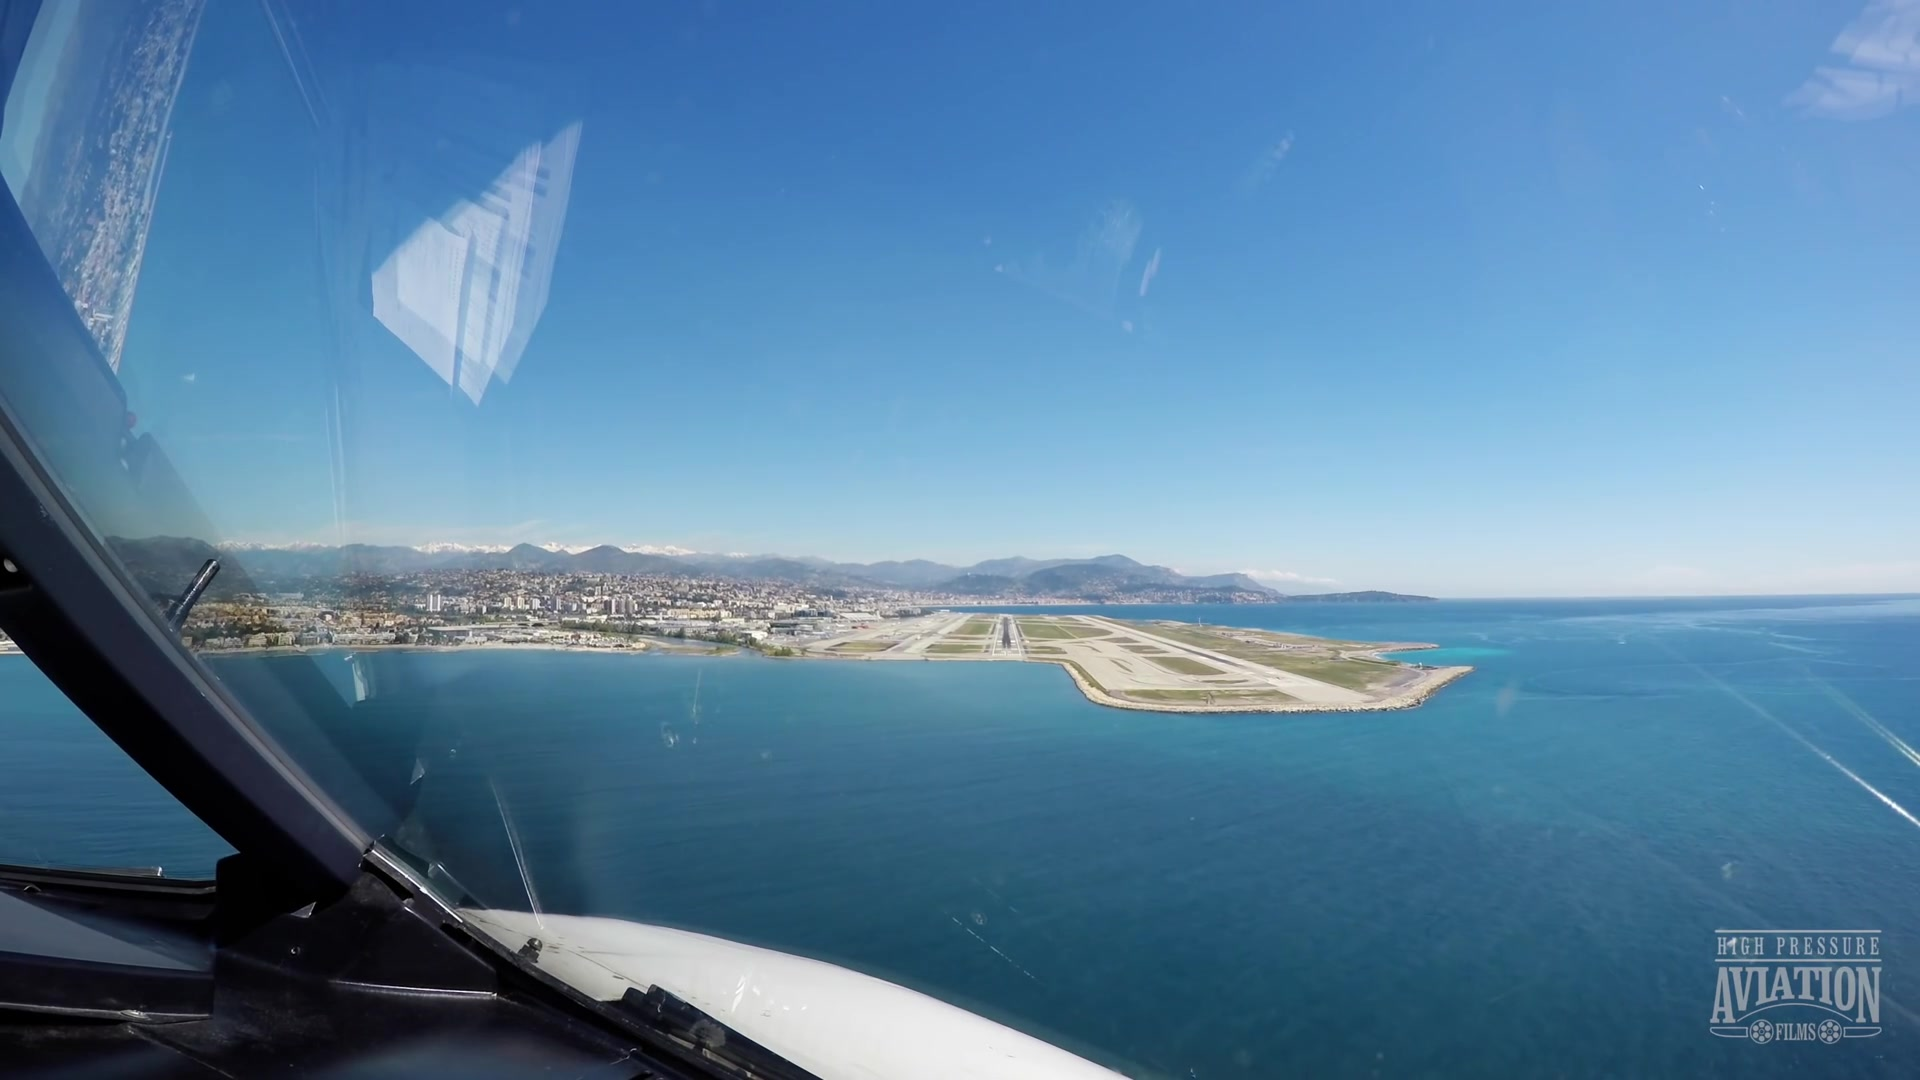runway: (992, 615, 1022, 658)
